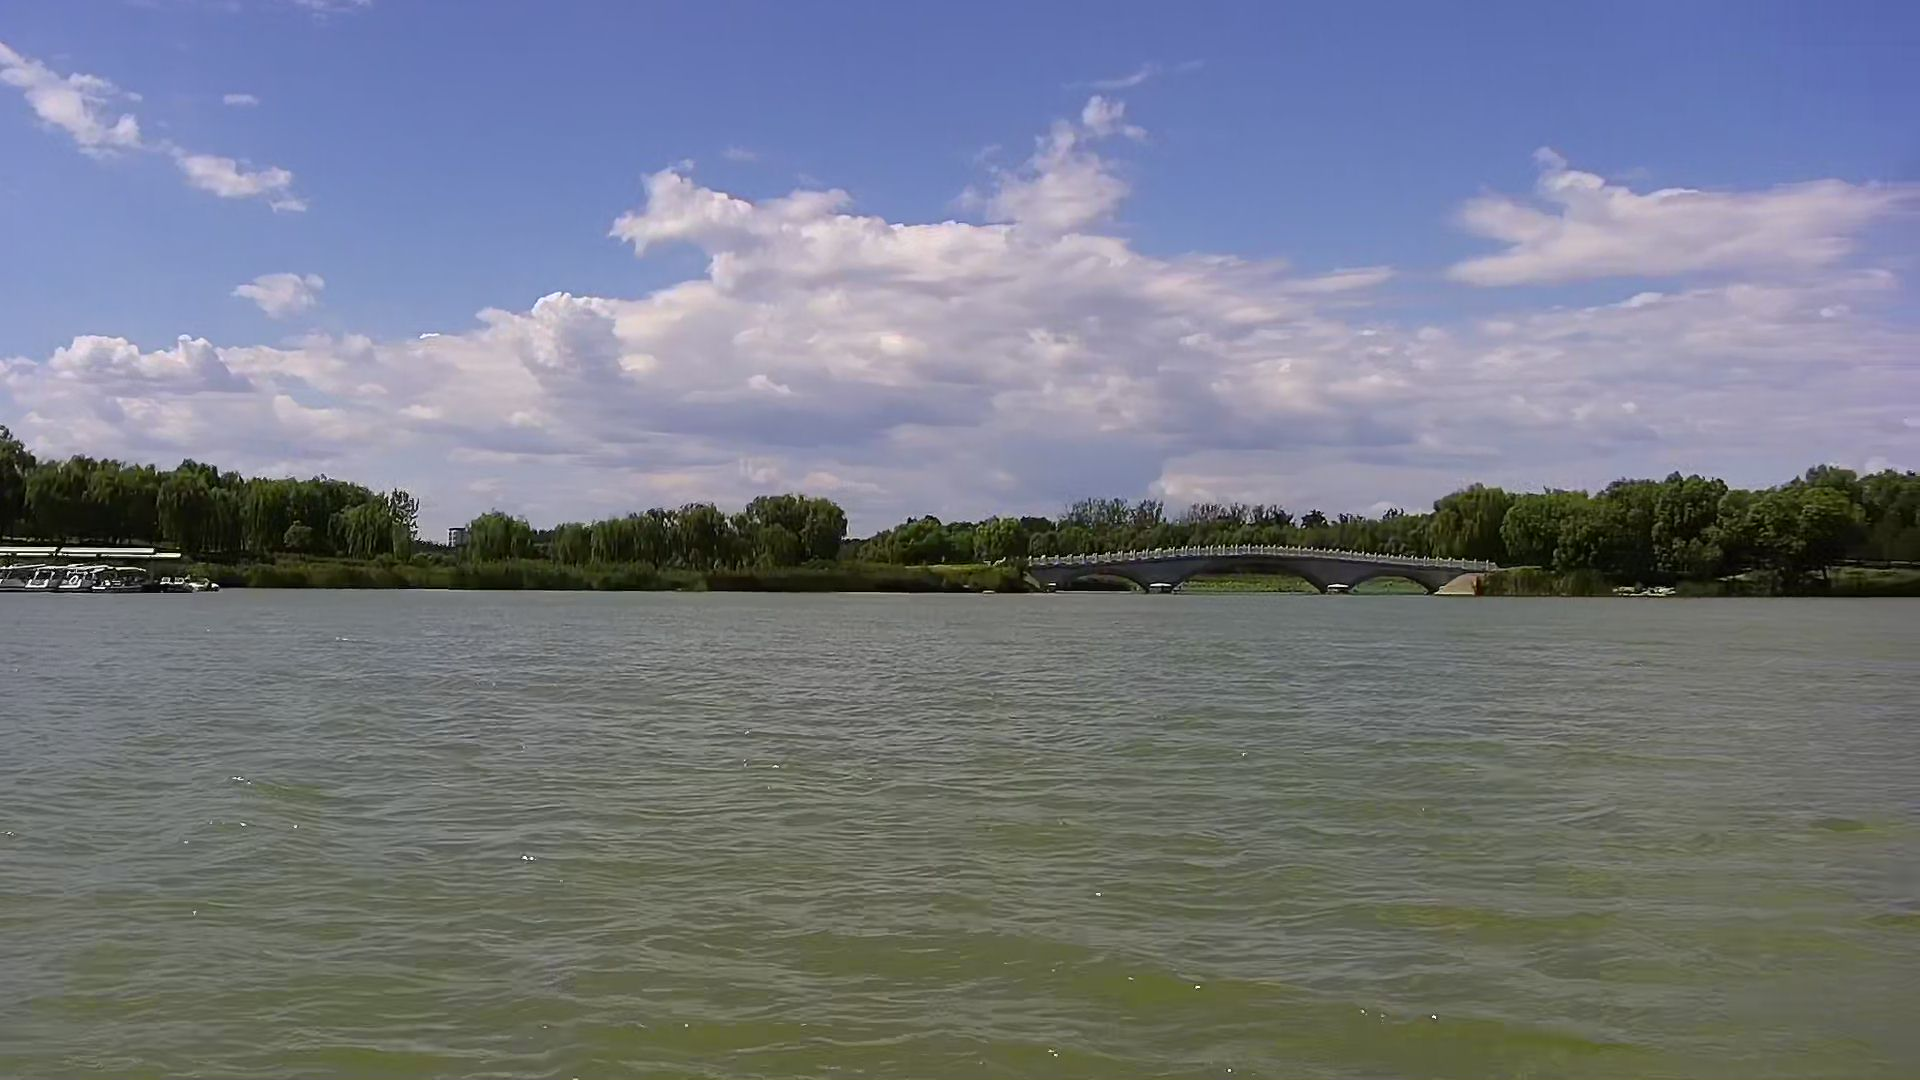bridge: (1029, 543, 1490, 599)
harbor: (1, 542, 210, 596)
